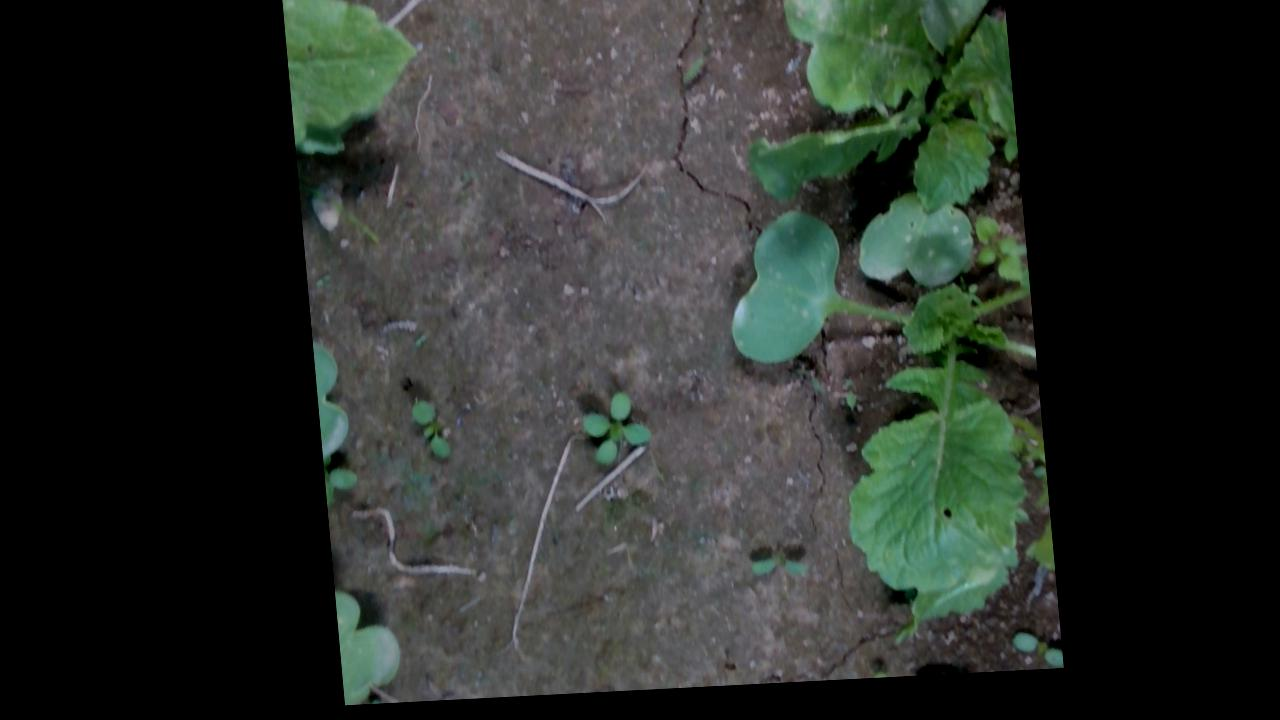weed: (569, 393, 649, 472), (401, 399, 443, 463), (738, 561, 801, 584)
